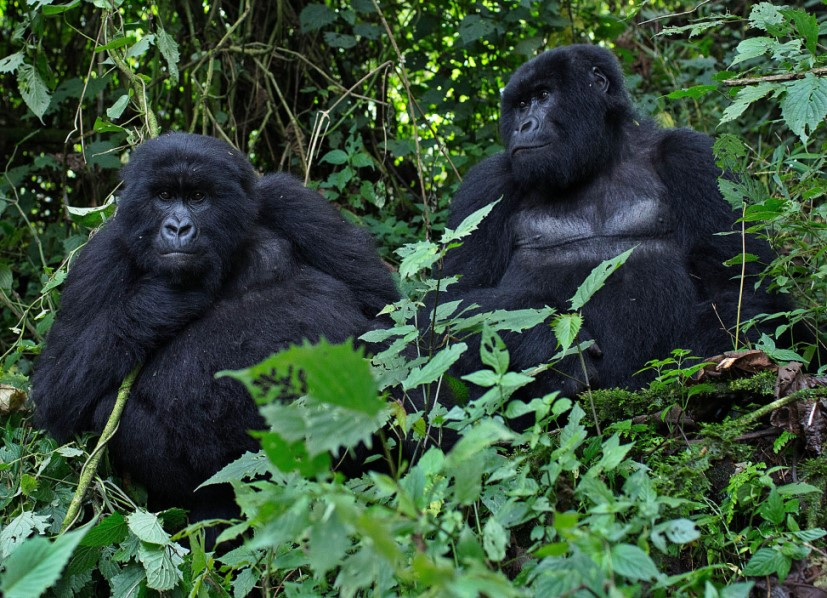Gorilla: (76, 149, 414, 483), (449, 55, 761, 411)
